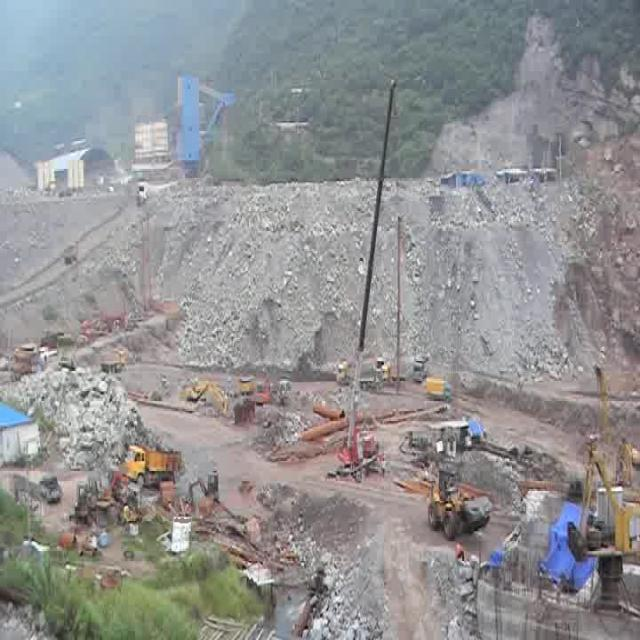crane: (328, 77, 396, 480)
excavator: (177, 377, 227, 418), (186, 468, 220, 507)
machinery: (428, 468, 492, 540)
truck: (125, 445, 183, 484), (98, 347, 131, 373), (359, 365, 383, 391), (381, 360, 406, 384), (411, 354, 429, 384)
